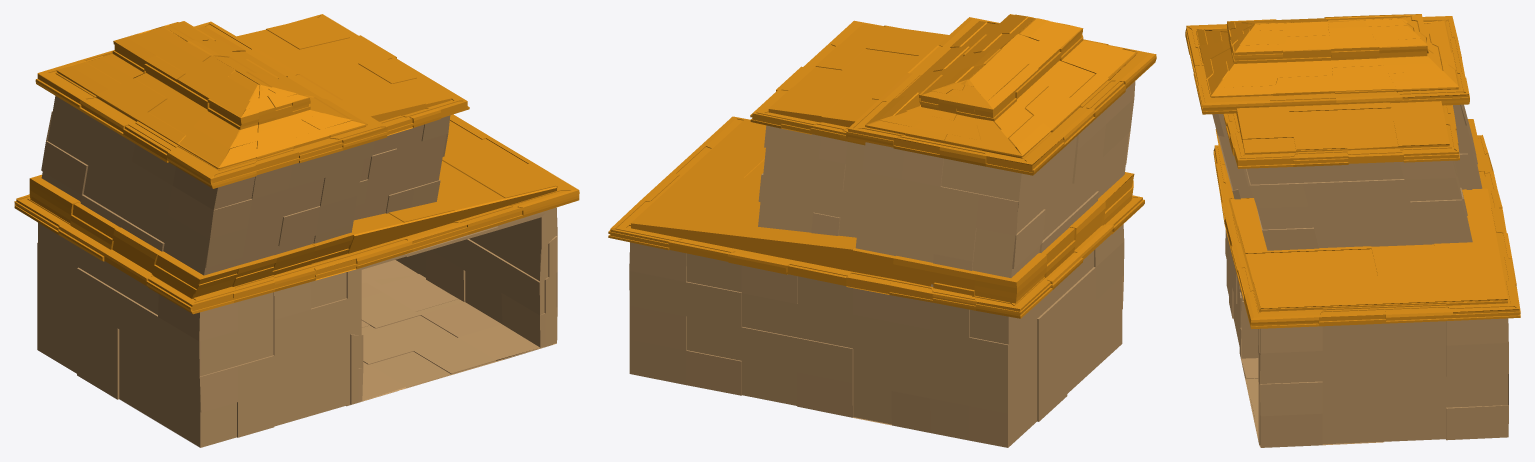
File: Bike_Shop_1.fbx
The picture shows the model from 3 angles, left to right: view 1: azimuth 30°, elevation 25°; view 2: azimuth 150°, elevation 25°; view 3: azimuth 270°, elevation 25°; orthographic projection. The views are drawn at different scales.
Parts seen in each view (by area): view 1: Cube.628; view 2: Cube.628; view 3: Cube.628.
Part boxes in pixels (x1,y1,x2,y2): Cube.628: (14, 14, 579, 447); Cube.628: (608, 14, 1156, 447); Cube.628: (1185, 14, 1520, 447).
Bounding box in the file's own units: 1561 × 1156 × 1191.
